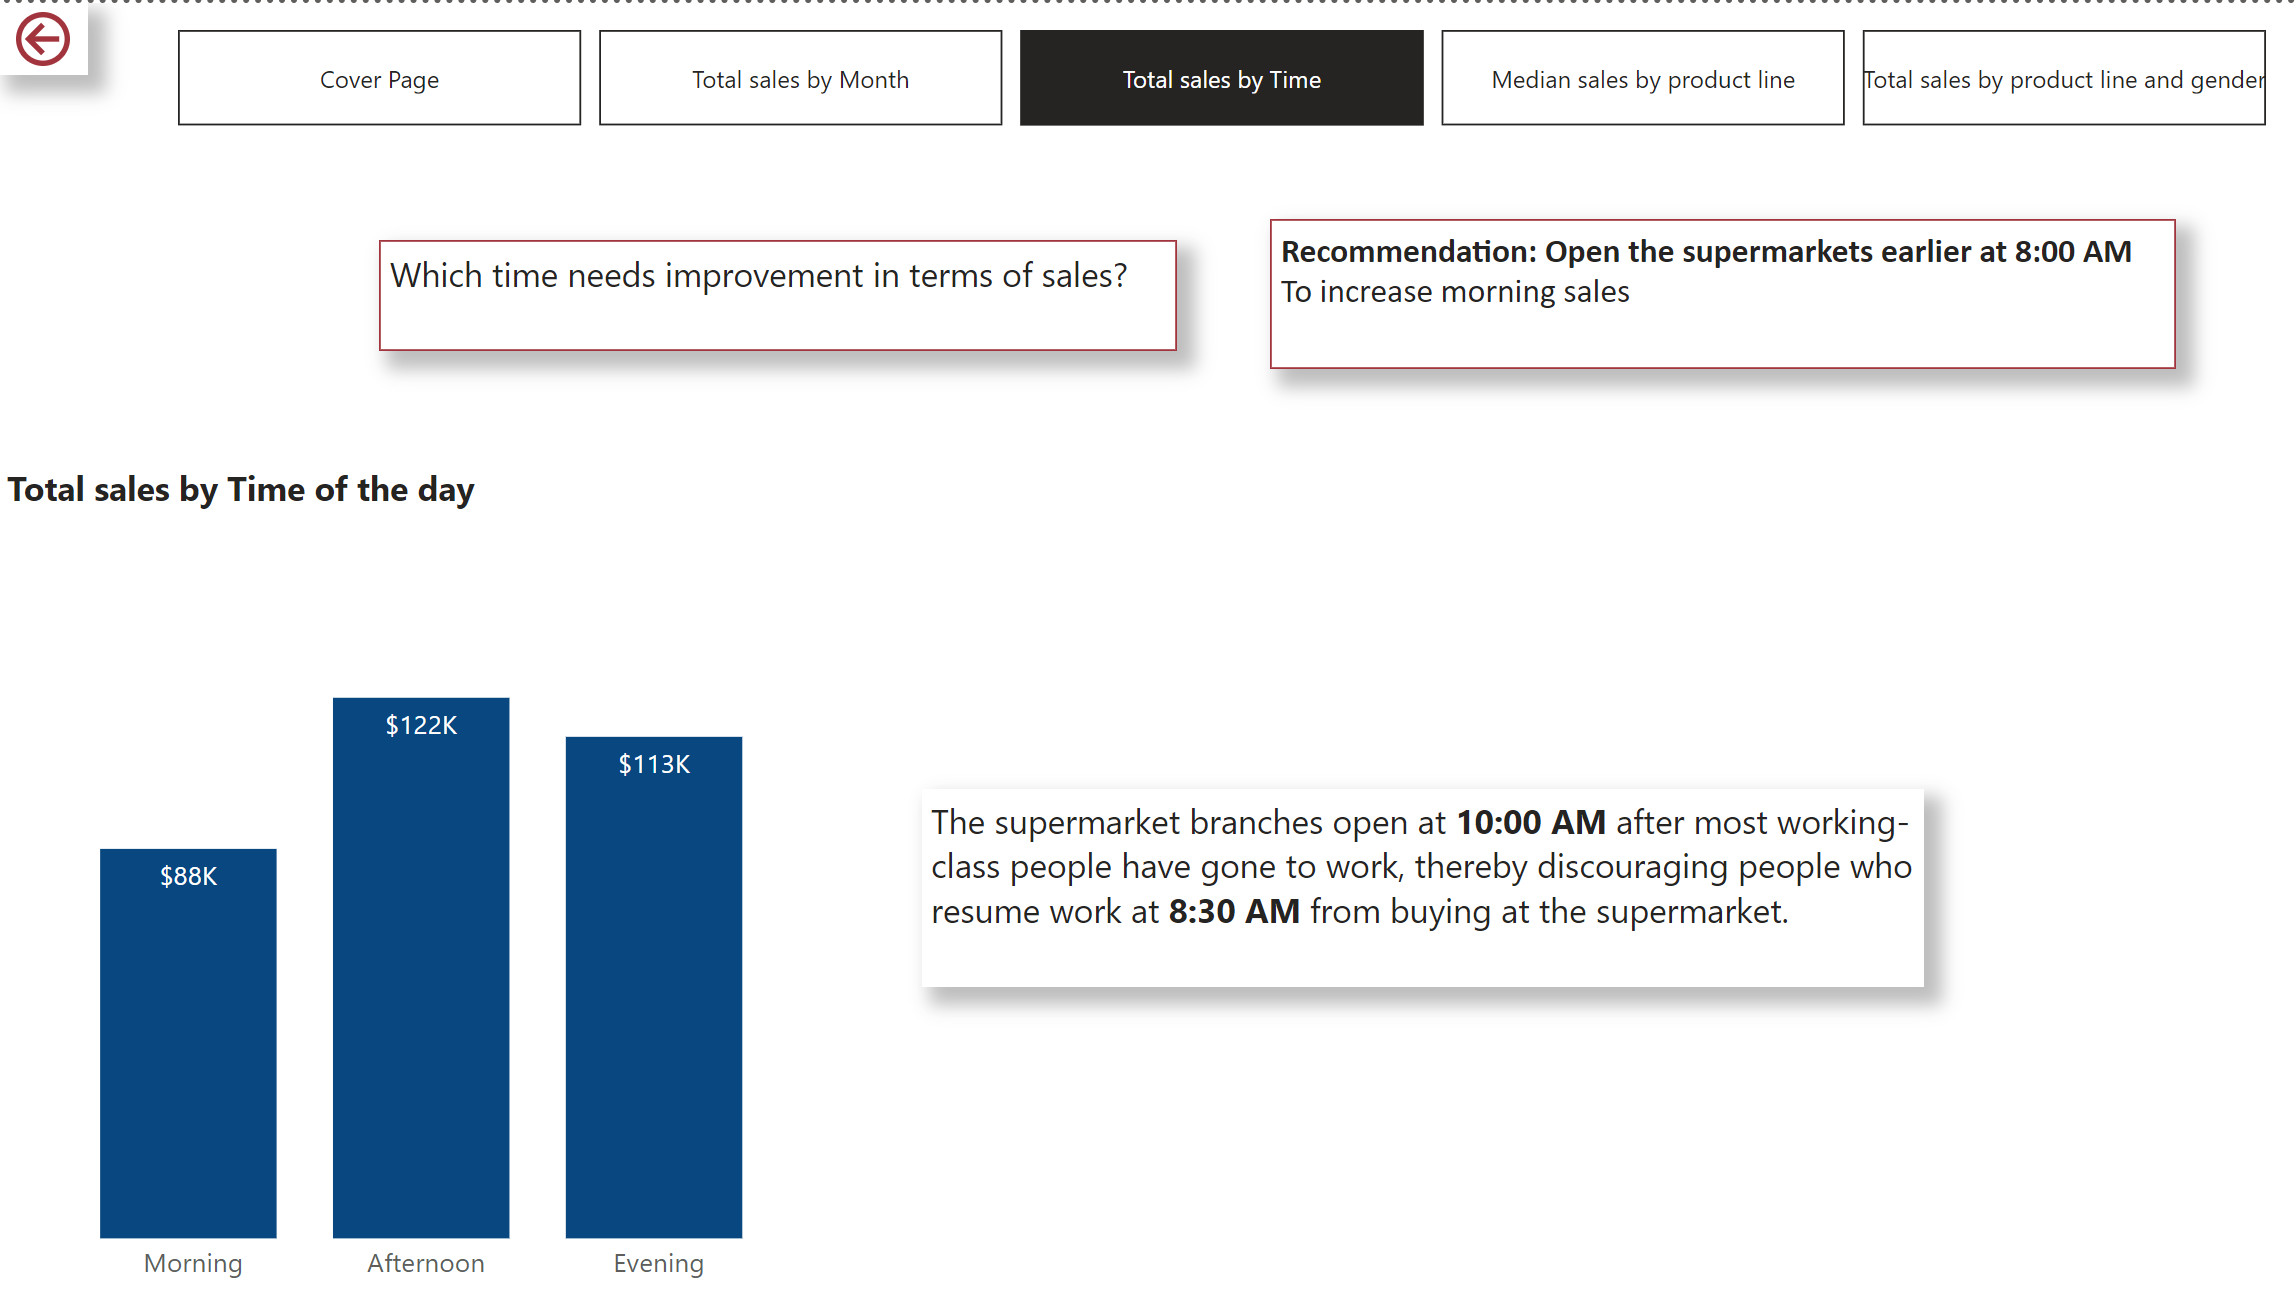

Layout of this report page (visuals, bound fields, positions):
{"tool":"powerbi","page":{"name":"Total sales by Time","canvas":[1280,720],"ordinal":2},"visuals":[{"type":"columnChart","fields":{"Y":["Sum(supermarket_sales.Sales)"],"Category":["Times.DayTime"]},"box":[0,343,475.7,377],"z":0},{"type":"textbox","box":[0,252.4,292.9,48.5],"z":1000},{"type":"textbox","box":[512.9,436.9,556.6,110],"z":2000},{"type":"textbox","box":[706.7,120,503.3,83.3],"z":3000},{"type":"pageNavigator","box":[100.3,14.6,1164.9,53.4],"z":5000},{"type":"textbox","box":[211.7,131.7,443.3,61.7],"z":6000},{"type":"actionButton","box":[0,0,50,40],"z":6001}]}

Visuals, with their boxes on the page's 1280x720 design canvas (x1, y1, x2, y2). These are canvas units, not pixel positions in the 2296x1293 screenshot, which may show the page scaled, cropped or inside an application window:
columnChart - Sum(supermarket_sales.Sales) x Times.DayTime: <bbox>0, 343, 476, 720</bbox>
textbox: <bbox>0, 252, 293, 301</bbox>
textbox: <bbox>513, 437, 1070, 547</bbox>
textbox: <bbox>707, 120, 1210, 203</bbox>
pageNavigator: <bbox>100, 15, 1265, 68</bbox>
textbox: <bbox>212, 132, 655, 193</bbox>
actionButton: <bbox>0, 0, 50, 40</bbox>
